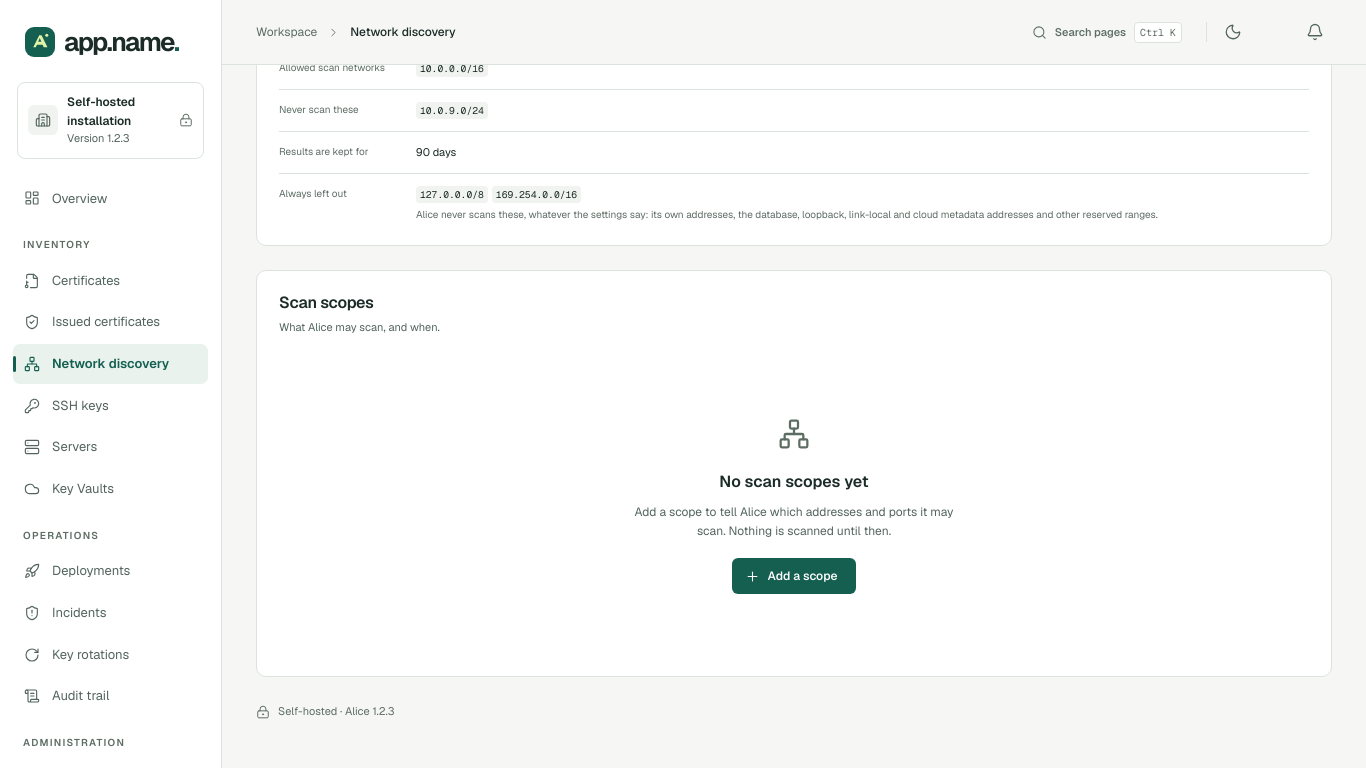
the scope dialog › waits for a click before asking for a step-up for the size
(page scrolled)
Click the button "Add a scope". click: point(794, 576)
box: [732,558,856,594]
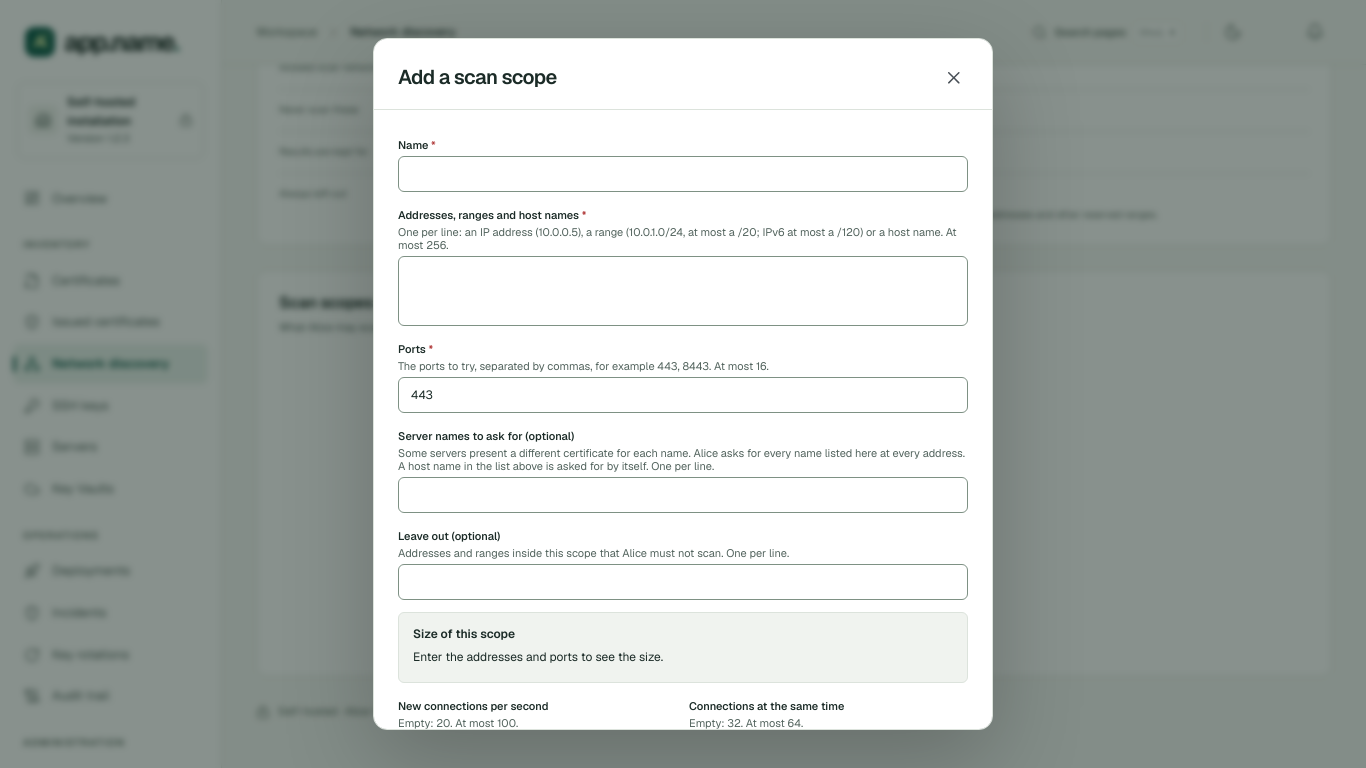
Type "10.0.0.0/22" into the text box labelled "Addresses, ranges and host names *". click: point(683, 291)
box: [398,256,968,326]
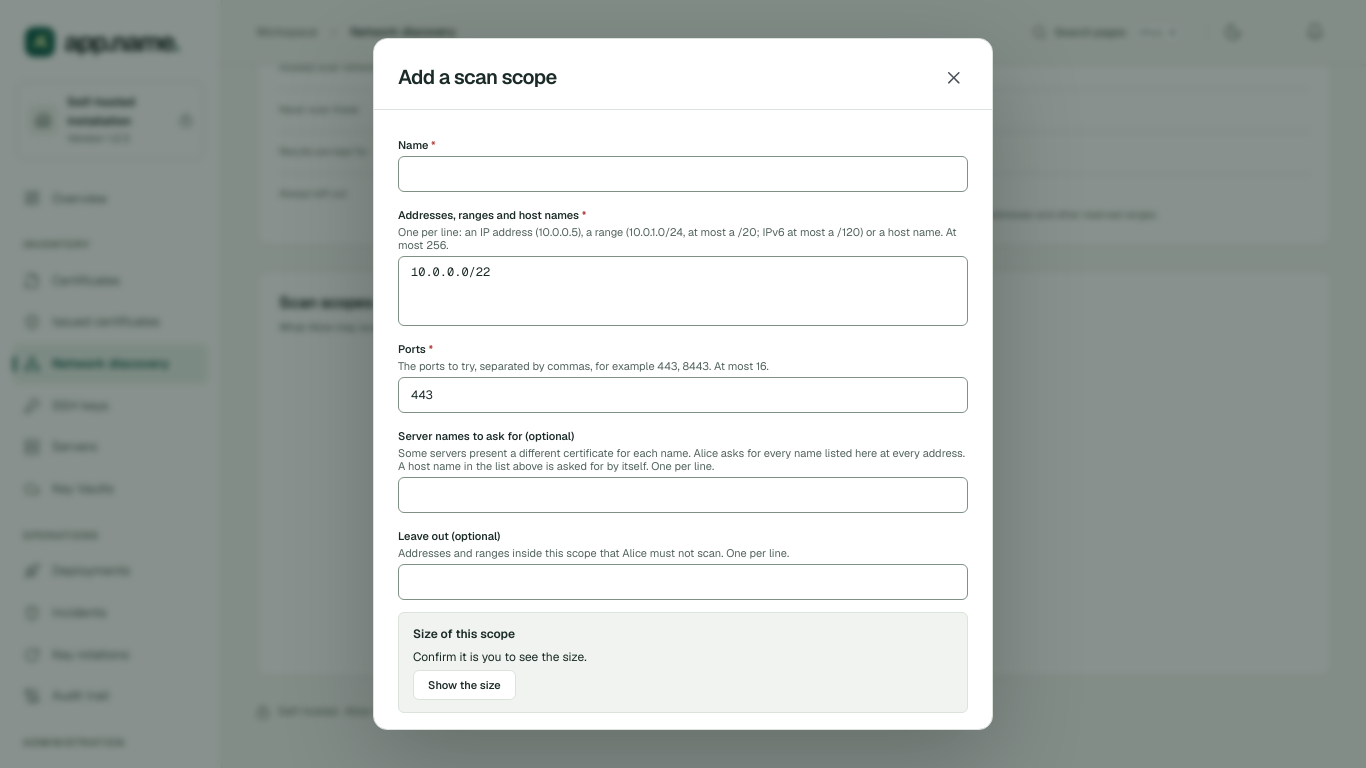
Result: the text "Confirm it is you to see the size." is shown at [413,648,587,664]
Click the button "Show the size". click: point(464, 685)
box: [413,670,516,700]
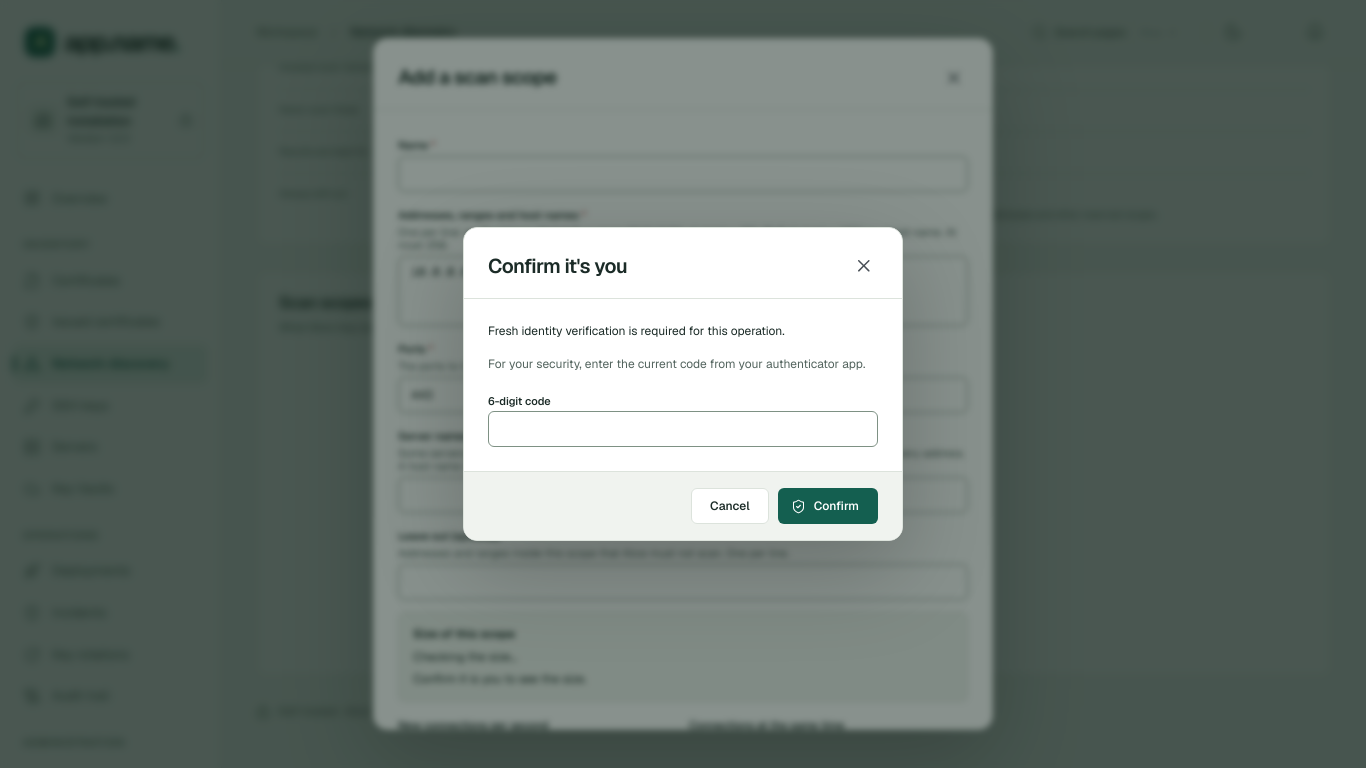
Type "123456" into the field labelled "6-digit code". click: point(683, 429)
box: [488,411,878,447]
Then press Enter
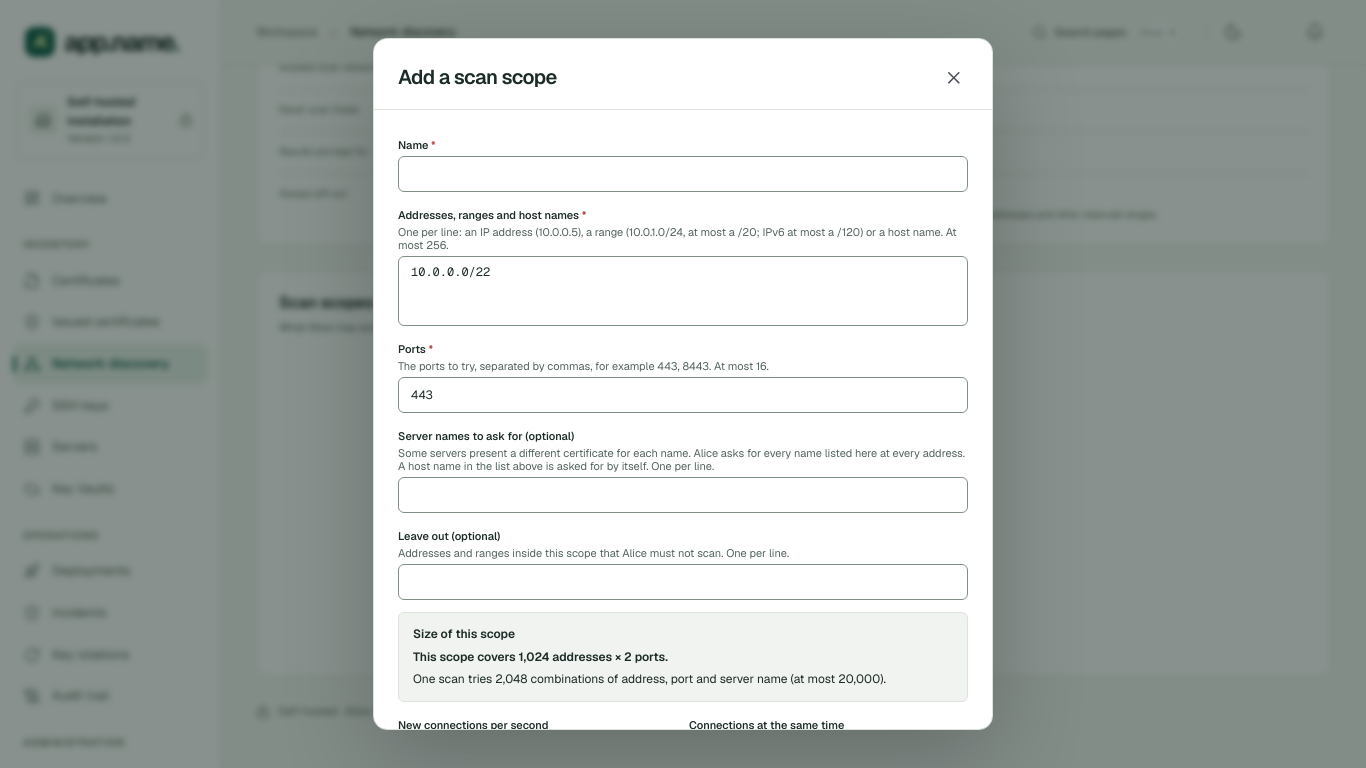
Result: the text "This scope covers 1,024 addresses × 2 ports." is shown at [413,648,668,664]
